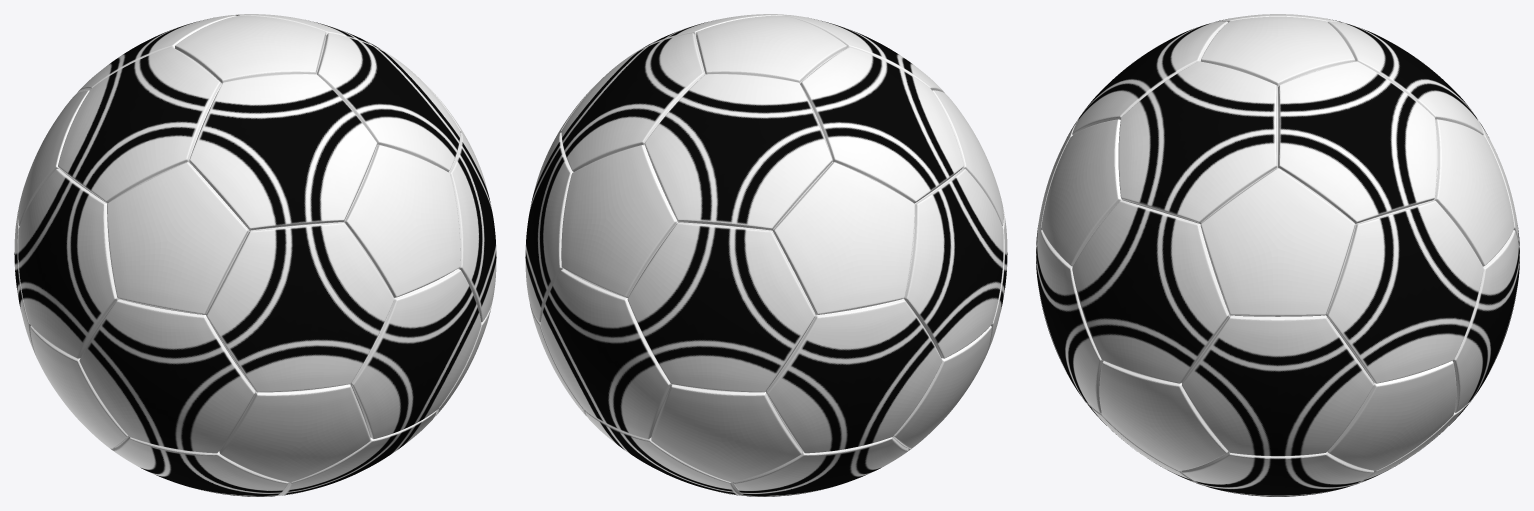
Rendered from football.gltf.
3 views of the same model, side by side, from view 1: azimuth 30°, elevation 25°; view 2: azimuth 150°, elevation 25°; view 3: azimuth 270°, elevation 25° (orthographic).
Parts seen in each view (by area): view 1: Icosphere; view 2: Icosphere; view 3: Icosphere.
Boxes of the visible parts, <box> form: Icosphere: <box>14,14,496,496</box>; Icosphere: <box>525,14,1007,496</box>; Icosphere: <box>1036,14,1519,496</box>.
Size of the model in its own units: 2.38 by 2.38 by 2.38.
Materials: 1 (1 with a texture image).
